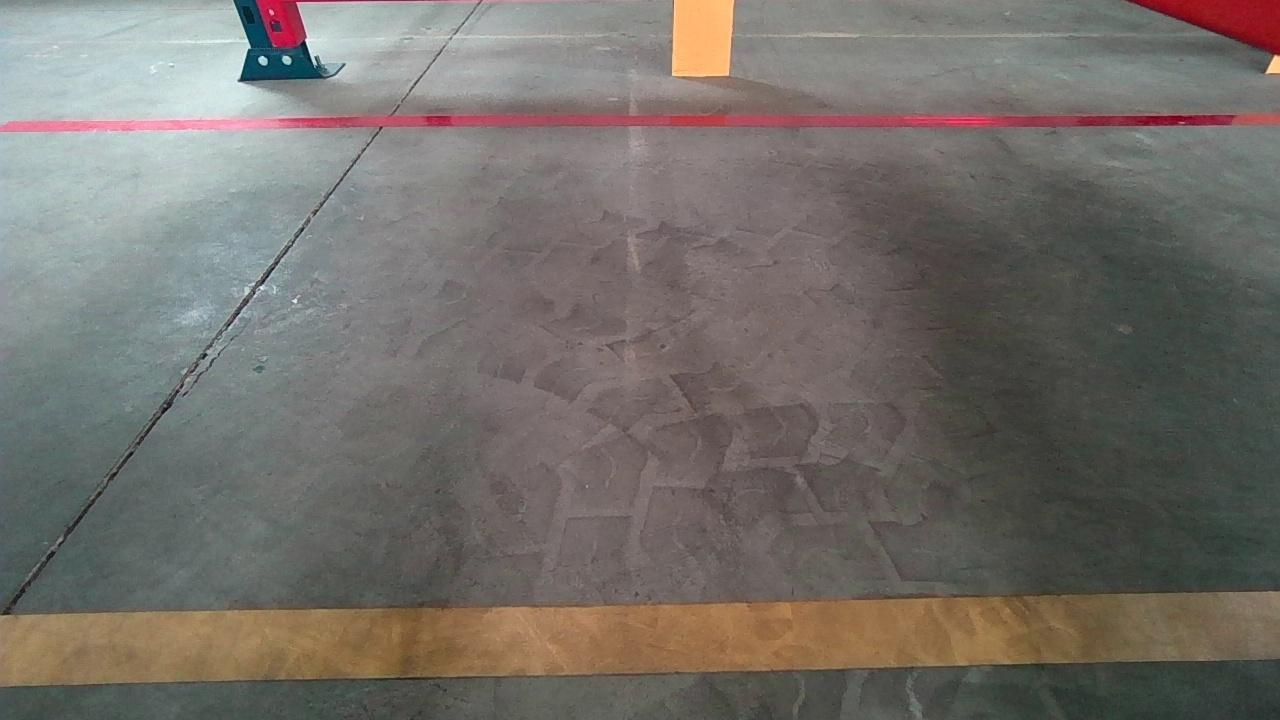orange_strip: (672, 0, 733, 76)
red_line: (0, 111, 1280, 131)
yellow_line: (5, 589, 1280, 689)
